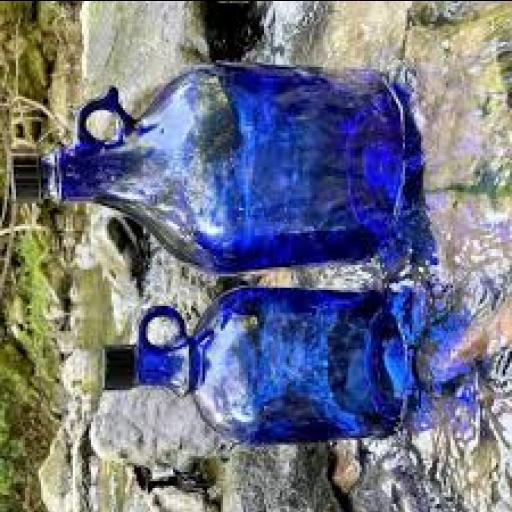blue-bottle: (11, 66, 410, 271), (102, 287, 412, 444)
